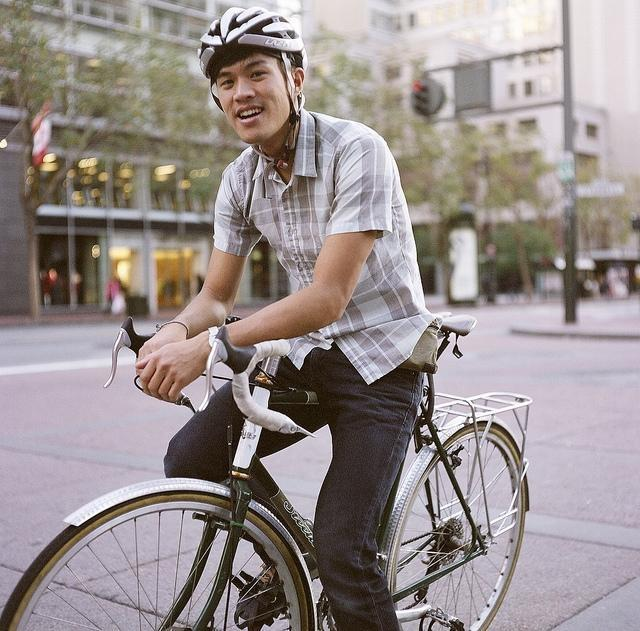bicycle: (0, 418, 528, 631)
